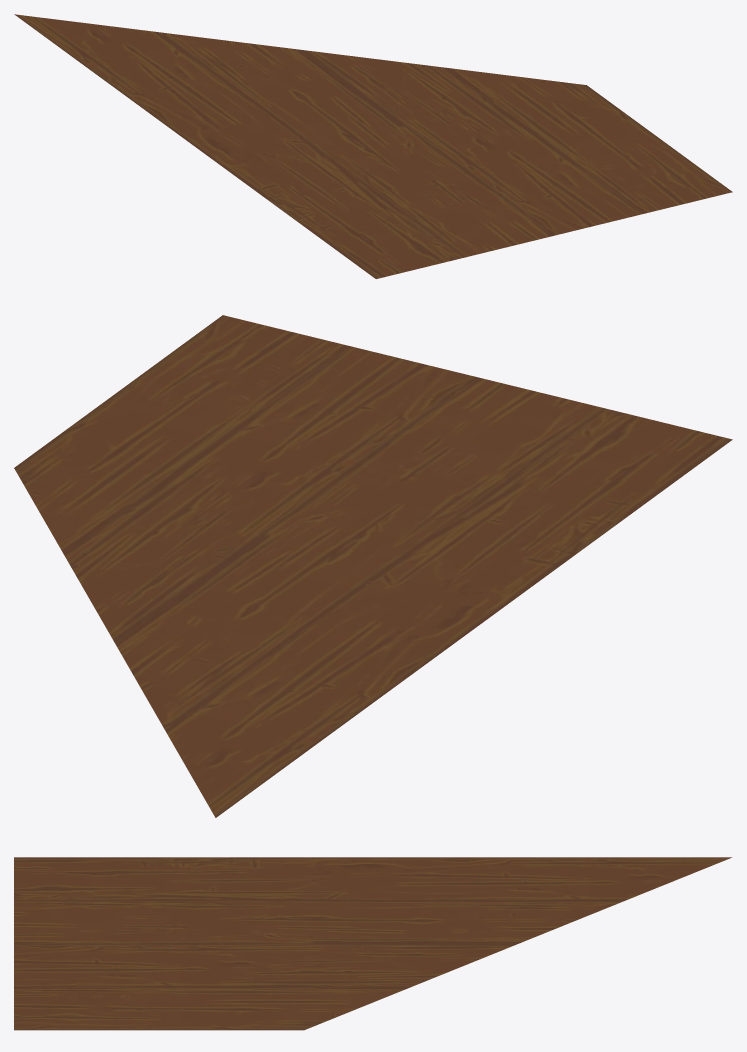
File: floor-wooddark-overhangcorner.glb
The picture shows the model from 3 angles, top to bottom: view 1: azimuth 30°, elevation 25°; view 2: azimuth 150°, elevation 25°; view 3: azimuth 270°, elevation 25°; orthographic projection. The views are drawn at different scales.
Visible parts, largest first — view 1: Floor_WoodDark_OverhangCorner; view 2: Floor_WoodDark_OverhangCorner; view 3: Floor_WoodDark_OverhangCorner.
Boxes of the visible parts, x1,y1,x2,y2 form: Floor_WoodDark_OverhangCorner: (14,14,732,278); Floor_WoodDark_OverhangCorner: (14,315,732,817); Floor_WoodDark_OverhangCorner: (14,857,731,1030).
Size of the model in its own units: 1 by 0.02 by 1.76.
Materials: 1 (1 with a texture image).
